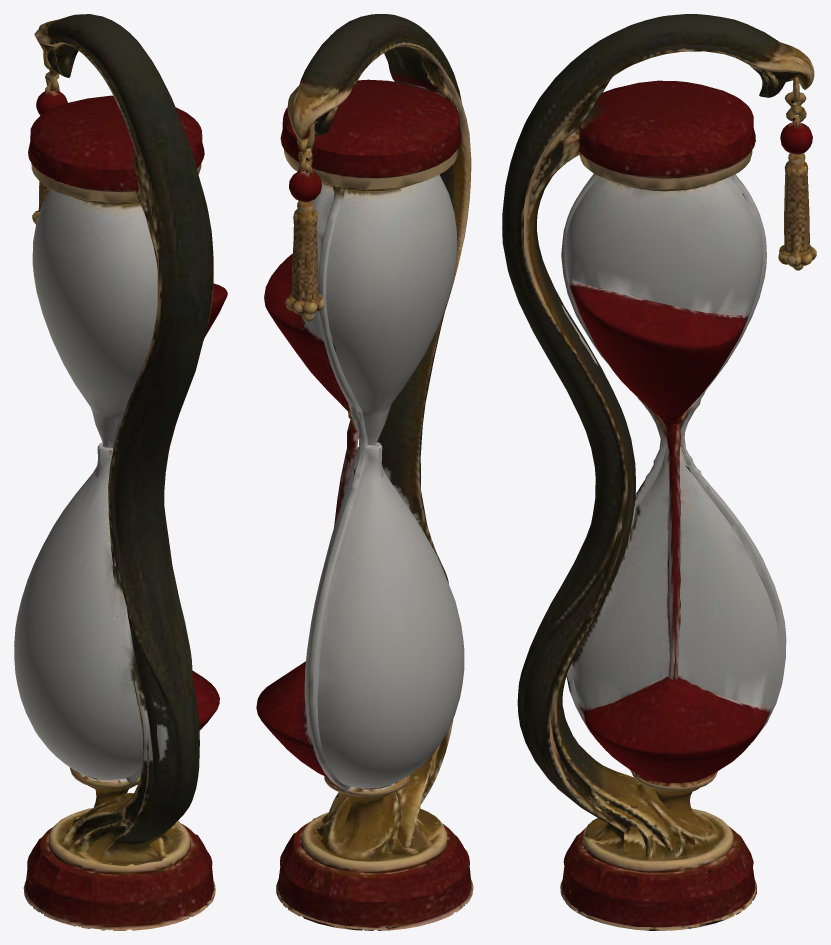
File: NX-09_hourglass_game.glb
3 renders of one model, left to right at view 1: azimuth 30°, elevation 25°; view 2: azimuth 150°, elevation 25°; view 3: azimuth 270°, elevation 25°, orthographic. The views are drawn at different scales.
Parts seen in each view (by area): view 1: NX-09_hourglass; view 2: NX-09_hourglass; view 3: NX-09_hourglass.
Boxes of the visible parts, x1,y1,x2,y2 form: NX-09_hourglass: (14, 14, 227, 930); NX-09_hourglass: (256, 14, 473, 930); NX-09_hourglass: (502, 14, 816, 930).
Bounding box in the file's own units: 0.0658 × 0.3 × 0.0982.
1 material, 1 textured.
